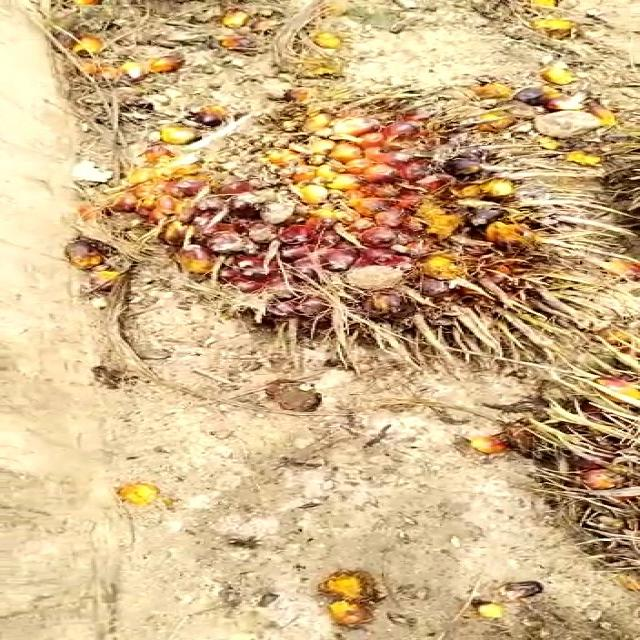palm oil: (85, 83, 607, 372)
